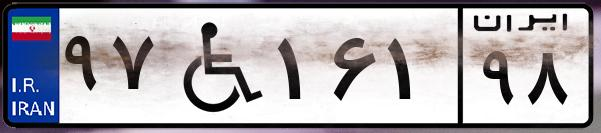1: (270, 28, 330, 110), (385, 28, 445, 110)
6: (330, 28, 385, 110)
7: (110, 28, 158, 98)
8: (525, 38, 570, 115)
9: (57, 26, 110, 100), (475, 38, 525, 113)
ژ (معلولین و جانبازان): (158, 12, 270, 120)
